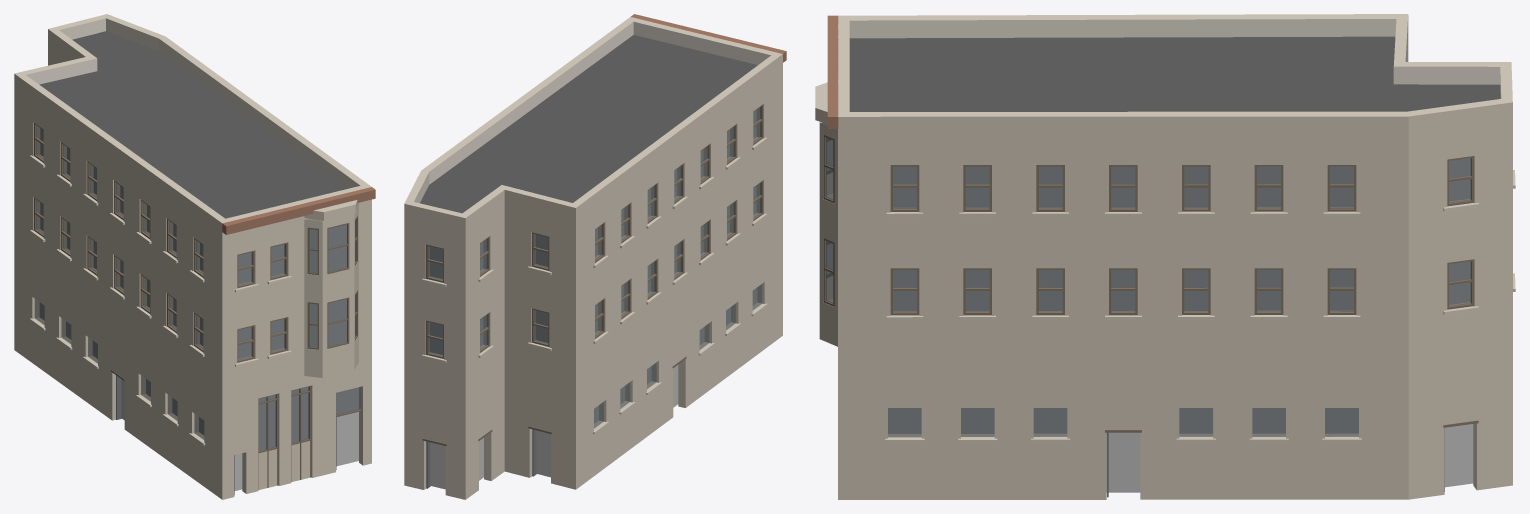
Rendered from exterior.glb.
3 views of the same model, side by side, from view 1: azimuth 30°, elevation 25°; view 2: azimuth 150°, elevation 25°; view 3: azimuth 270°, elevation 25° (orthographic). The views are drawn at different scales.
Parts seen in each view (by area): view 1: shell, roof, shadow-proxy, glazing, bay-windows, frames, bay-glazing, storefront, relief-0, trim; view 2: shell, roof, glazing, shadow-proxy, frames, trim, relief-0, storefront; view 3: shell, roof, shadow-proxy, glazing, frames, trim, bay-windows, bay-glazing, relief-0.
Boxes of the visible parts, x1,y1,x2,y2 form: shell: (14, 14, 371, 499); roof: (39, 31, 346, 218); shadow-proxy: (40, 128, 358, 490); glazing: (34, 125, 360, 451); bay-windows: (304, 200, 358, 377); frames: (34, 123, 287, 362); bay-glazing: (307, 216, 357, 349); storefront: (111, 370, 361, 494); relief-0: (222, 187, 375, 234); trim: (29, 155, 291, 445); shell: (404, 17, 782, 499); roof: (420, 35, 757, 213); glazing: (428, 107, 761, 428); shadow-proxy: (430, 110, 756, 489); frames: (426, 104, 762, 358); trim: (422, 137, 767, 434); relief-0: (631, 14, 786, 62); storefront: (422, 356, 686, 488); shell: (838, 14, 1512, 499); roof: (849, 36, 1500, 111); shadow-proxy: (888, 158, 1473, 492); glazing: (888, 158, 1470, 437); frames: (890, 156, 1473, 315); trim: (885, 170, 1515, 442); bay-windows: (815, 82, 837, 346); bay-glazing: (823, 135, 834, 306); relief-0: (827, 15, 838, 128).
Size of the model in its own units: 7.38 by 12.52 by 20.73.
